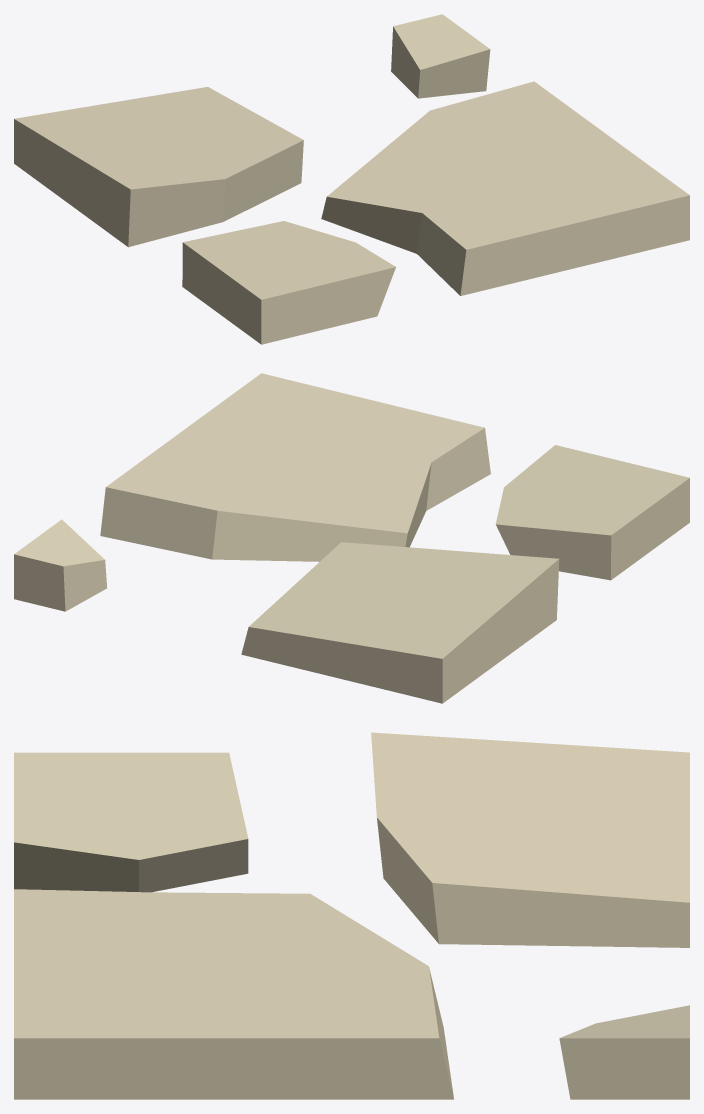
The model's file is Destroy_Plate_3.fbx.
The picture shows the model from 3 angles, top to bottom: view 1: azimuth 30°, elevation 25°; view 2: azimuth 150°, elevation 25°; view 3: azimuth 270°, elevation 25°; orthographic projection. The views are drawn at different scales.
Visible parts, largest first — view 1: Destroy_Plate_3; view 2: Destroy_Plate_3; view 3: Destroy_Plate_3.
Boxes of the visible parts, left/top/right/bottom form: Destroy_Plate_3: left=14, top=14, right=689, bottom=344; Destroy_Plate_3: left=14, top=373, right=689, bottom=703; Destroy_Plate_3: left=14, top=732, right=689, bottom=1099.
Bounding box in the file's own units: 300 × 39.83 × 300.
